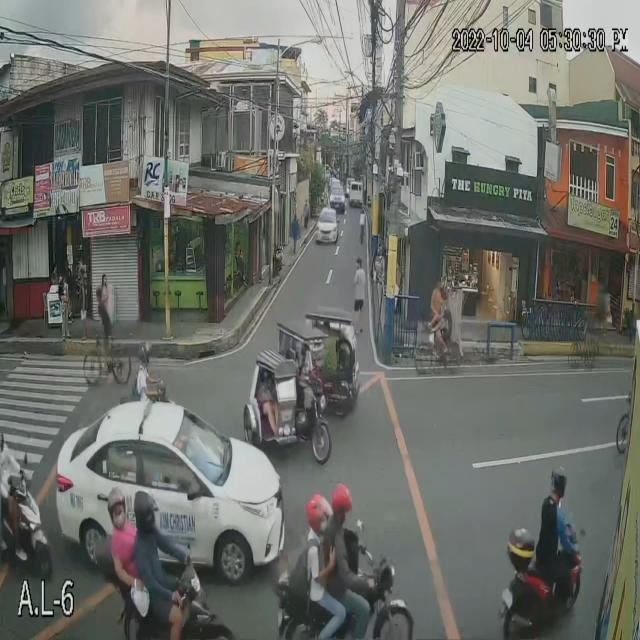Full-Faced: (550, 466, 570, 502), (137, 338, 157, 371), (135, 491, 151, 527)
Half-Faced: (331, 492, 350, 531), (112, 489, 125, 522), (313, 507, 330, 532)
